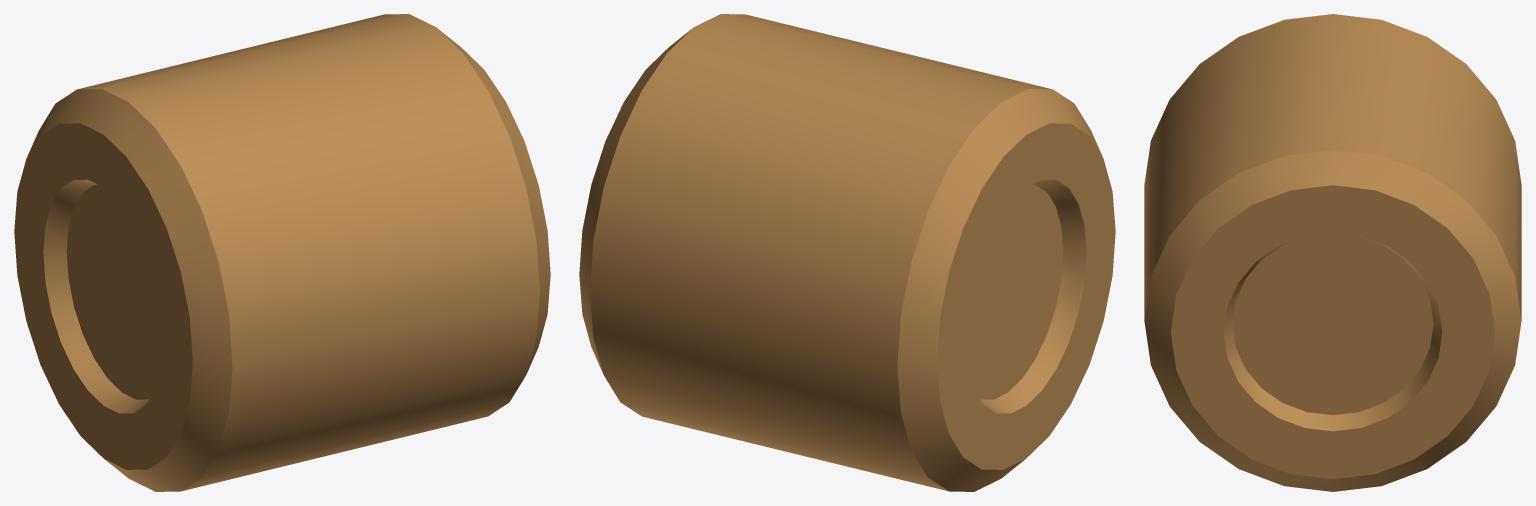
File: SmallWheelHub.fbx
3 renders of one model, left to right at view 1: azimuth 30°, elevation 25°; view 2: azimuth 150°, elevation 25°; view 3: azimuth 270°, elevation 25°, orthographic. The views are drawn at different scales.
Visible parts, largest first — view 1: SmallWheelHub_LOD0; view 2: SmallWheelHub_LOD0; view 3: SmallWheelHub_LOD0.
Part boxes in pixels (bbox=[...]): SmallWheelHub_LOD0: bbox=[14, 14, 550, 491]; SmallWheelHub_LOD0: bbox=[579, 14, 1115, 491]; SmallWheelHub_LOD0: bbox=[1144, 14, 1521, 491].
Size of what is drawn, in the model's own units: 0.0507 by 0.051 by 0.051.
